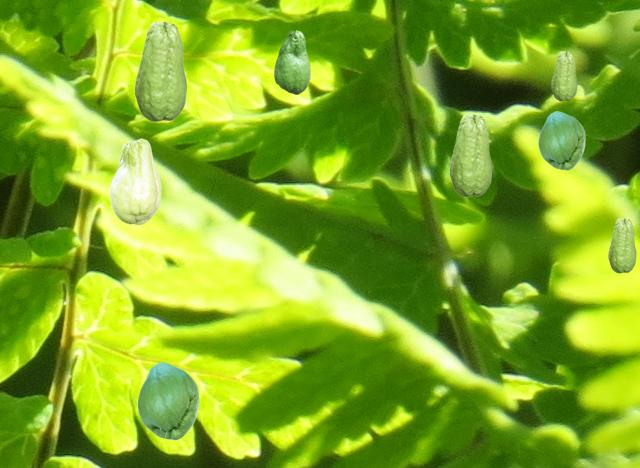sayote: (134, 21, 186, 121), (137, 362, 198, 439), (109, 138, 160, 224), (449, 114, 491, 196), (538, 111, 584, 169), (274, 30, 309, 93), (608, 218, 635, 272), (551, 51, 576, 100)
